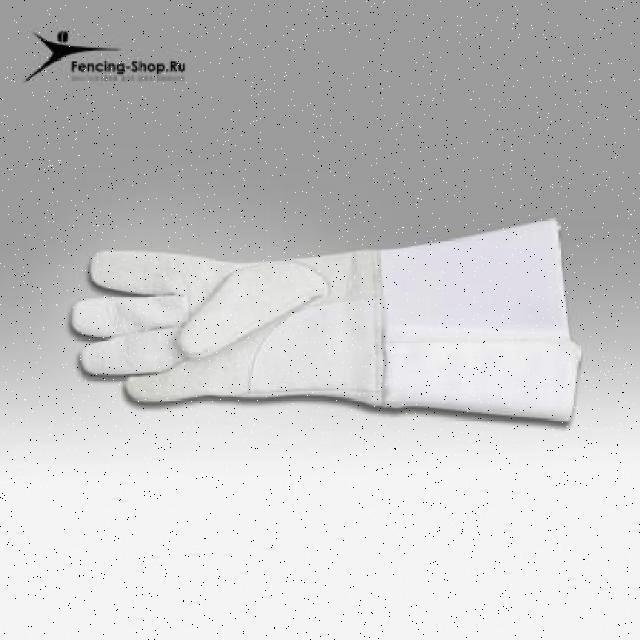Guantes: (70, 217, 582, 425)
